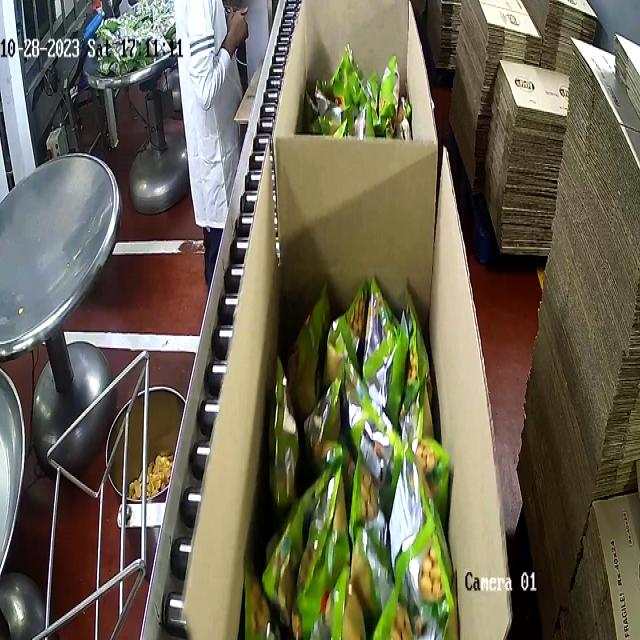YOGURT_HERB: (274, 281, 460, 640), (305, 45, 411, 136)
